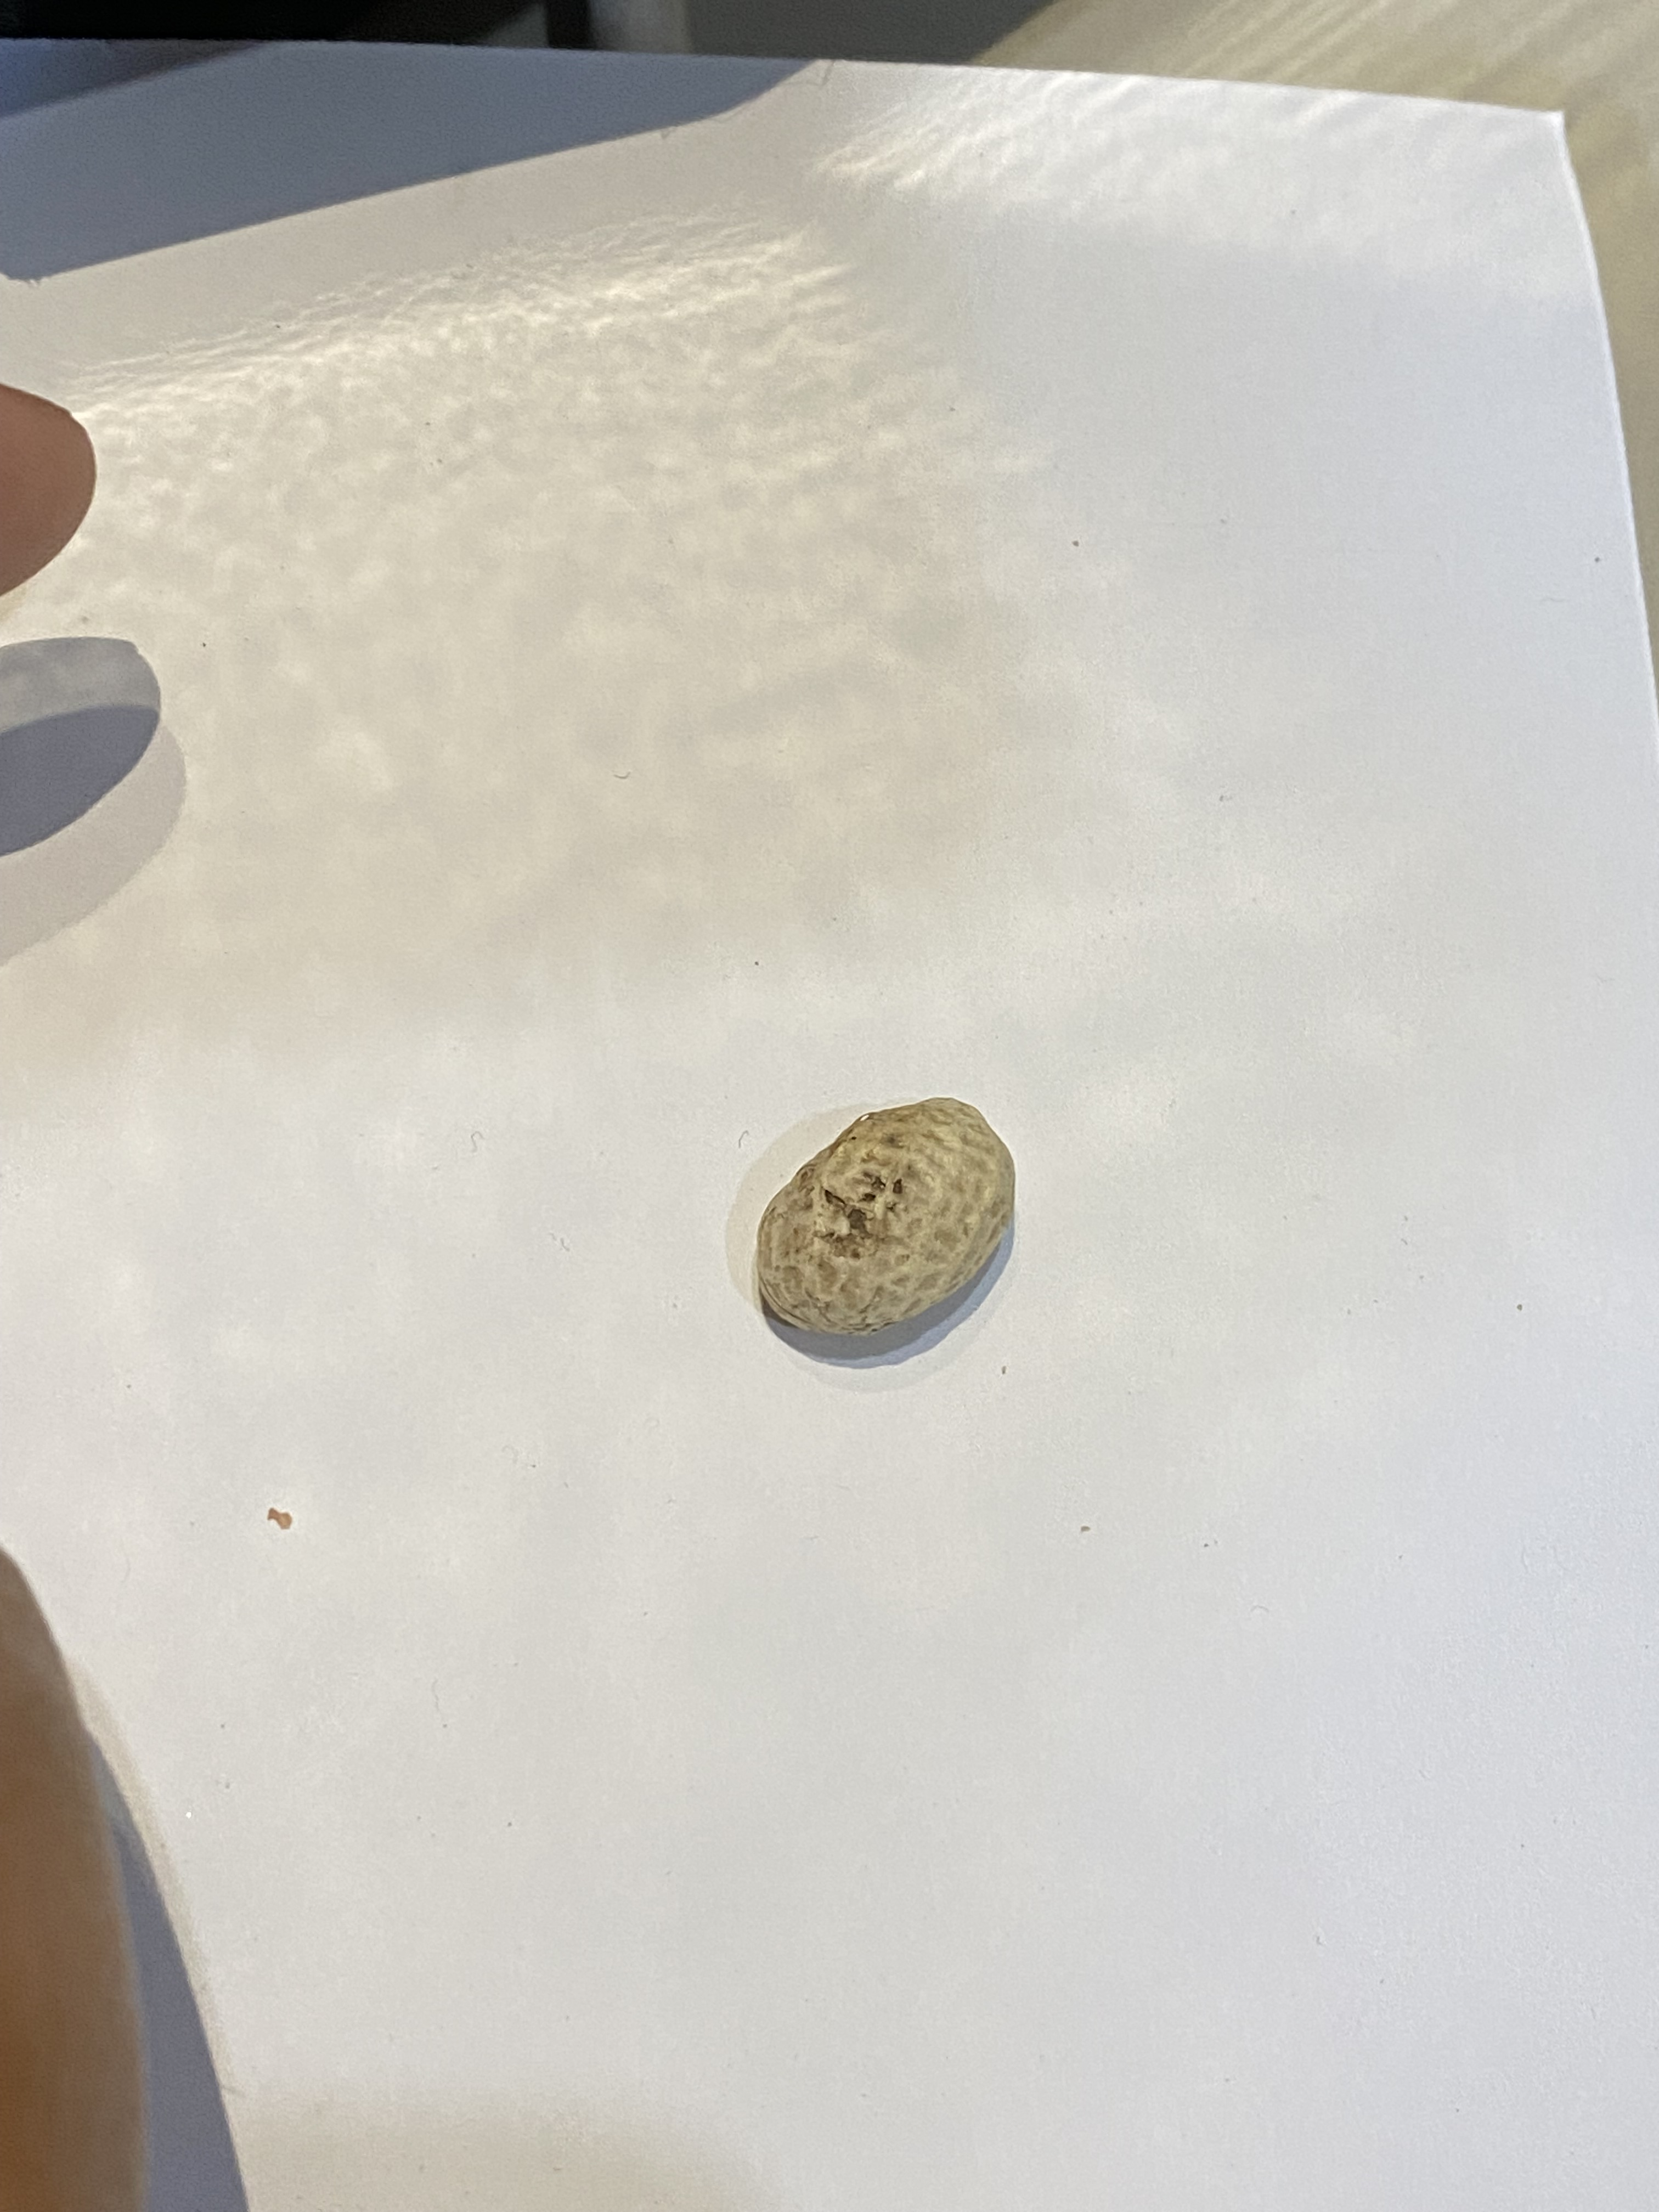kacang1: (728, 1085, 1047, 1339)
